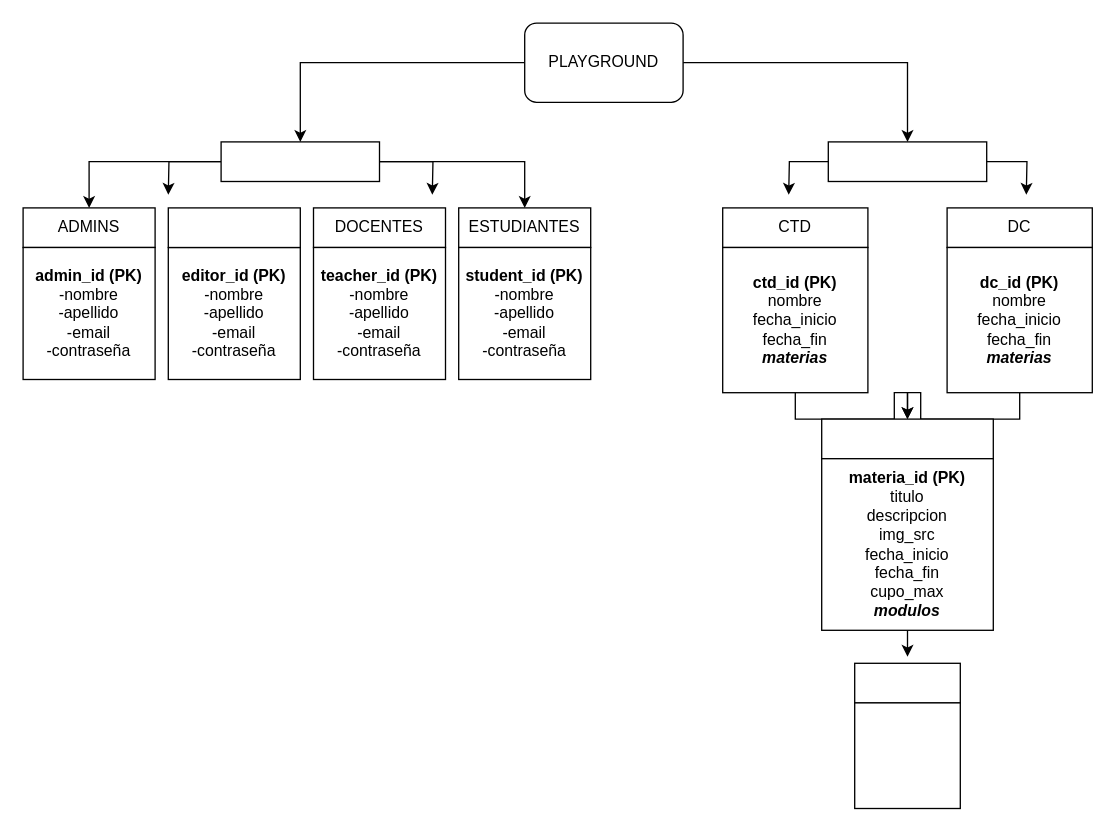
Some shapes in this 1115 by 832 pixel diagram are drawn without their labels. The shapes that lost their labels are listed below. From the top down, each one's box as (x1, y1, x2, y2) in pixels, then its label:
(220, 141, 380, 182): USERS
(827, 141, 987, 182): COURSE (carreras)
(167, 207, 300, 248): EDITORES
(820, 418, 993, 459): materias
(853, 662, 960, 703): modulos
(853, 702, 960, 808): titulo descripcion fecha_inicio
